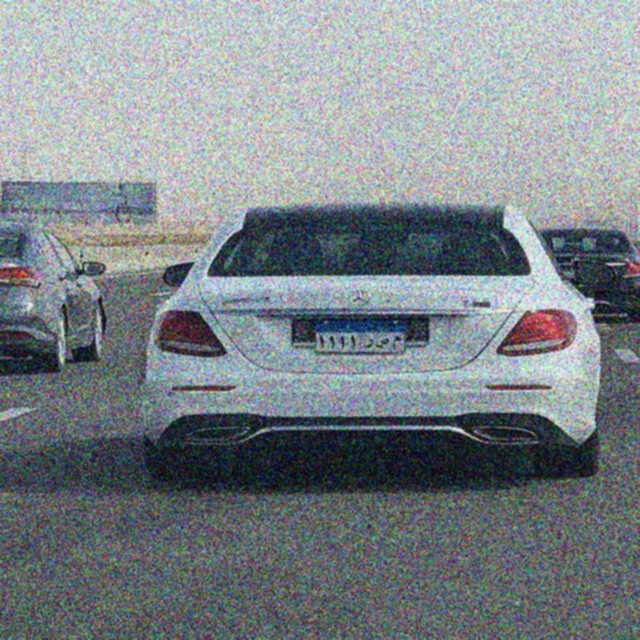License Plate: (312, 317, 407, 356)
